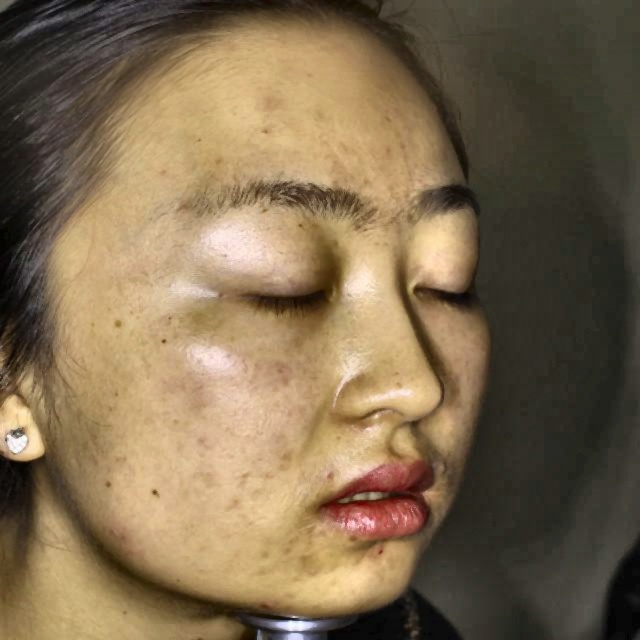comedone: (371, 536, 394, 557), (250, 598, 287, 611)
